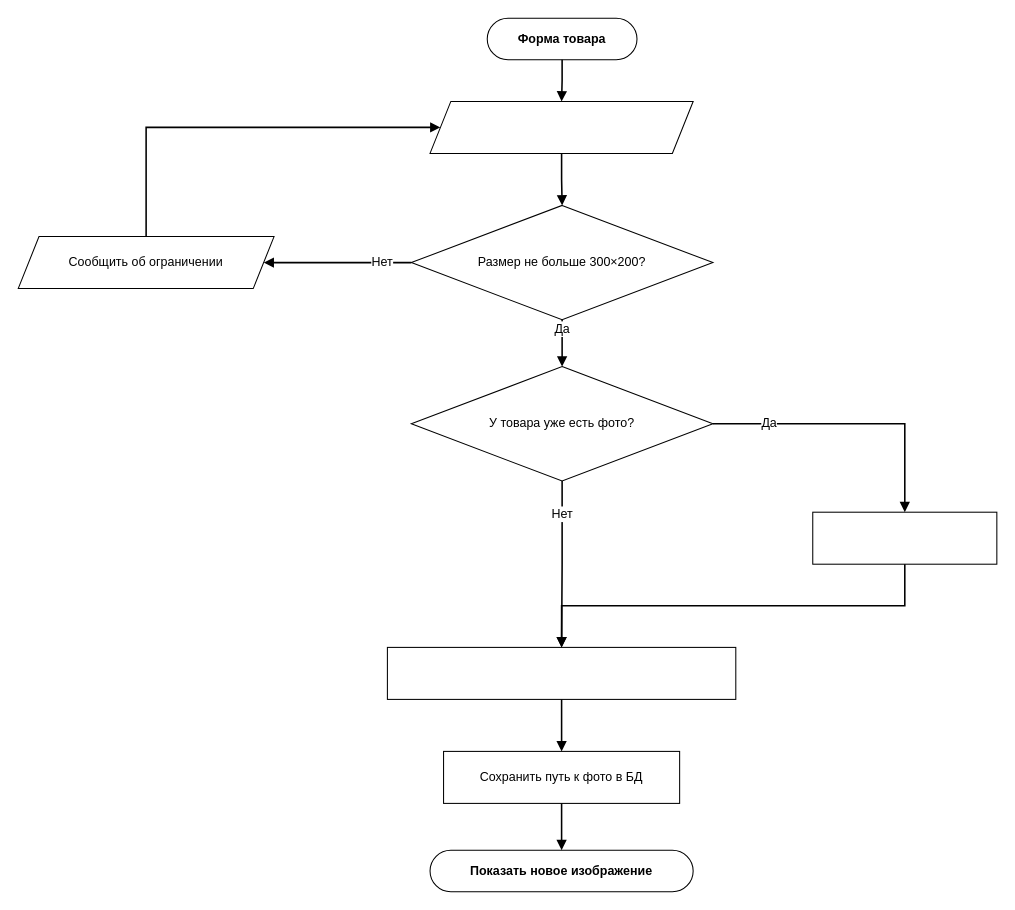
Image size: 1015x910. Some labels were removed from this diagram. Each missing label, with the centre of its shape:
Выбрать файл изображения: (x=561, y=126)
Скопировать новое фото в папку приложения: (x=561, y=672)
Удалить старый файл: (x=904, y=537)
